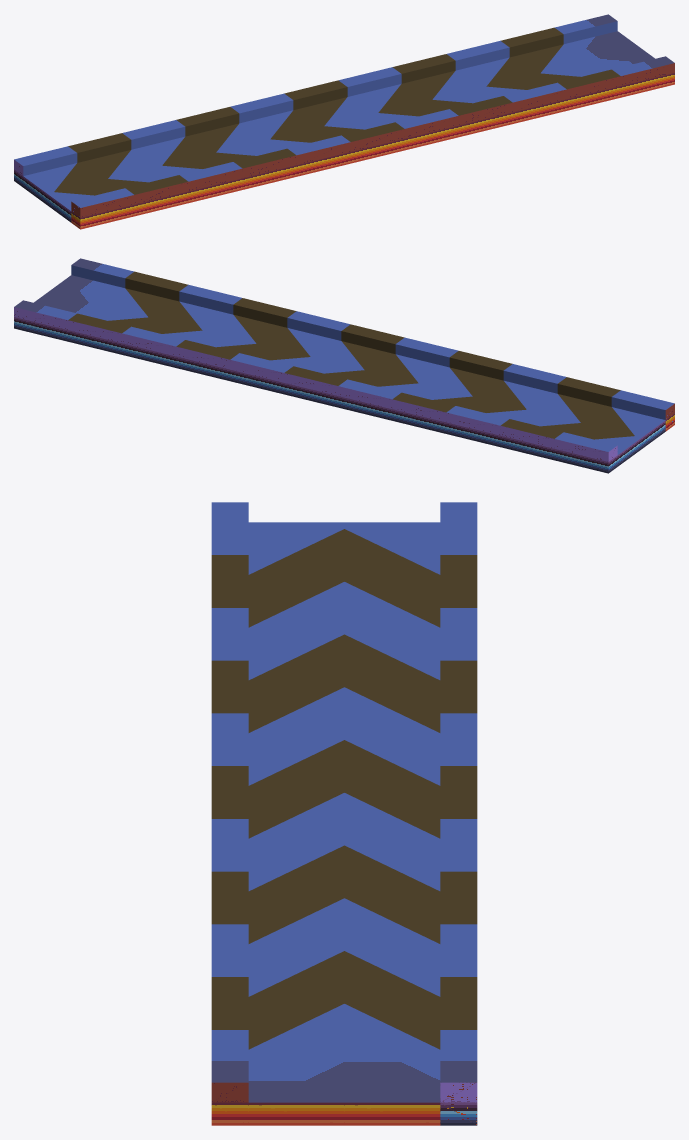
The model's file is Road.fbx.
3 renders of one model, top to bottom at view 1: azimuth 30°, elevation 25°; view 2: azimuth 150°, elevation 25°; view 3: azimuth 270°, elevation 25°, orthographic. The views are drawn at different scales.
Parts seen in each view (by area): view 1: Cube; view 2: Cube; view 3: Cube.
Boxes of the visible parts, bbox=[...] form: Cube: bbox=[14, 14, 674, 229]; Cube: bbox=[14, 258, 674, 473]; Cube: bbox=[211, 502, 477, 1125].
Bounding box in the file's own units: 2000 × 69.12 × 387.
